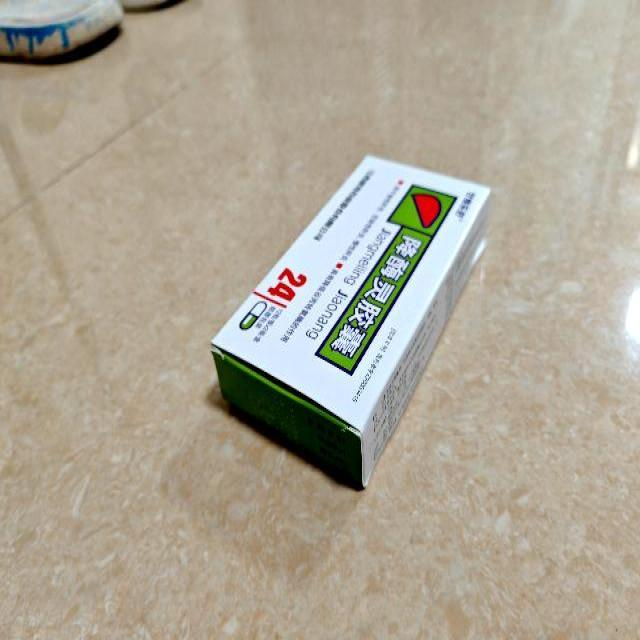box: (210, 154, 492, 489)
